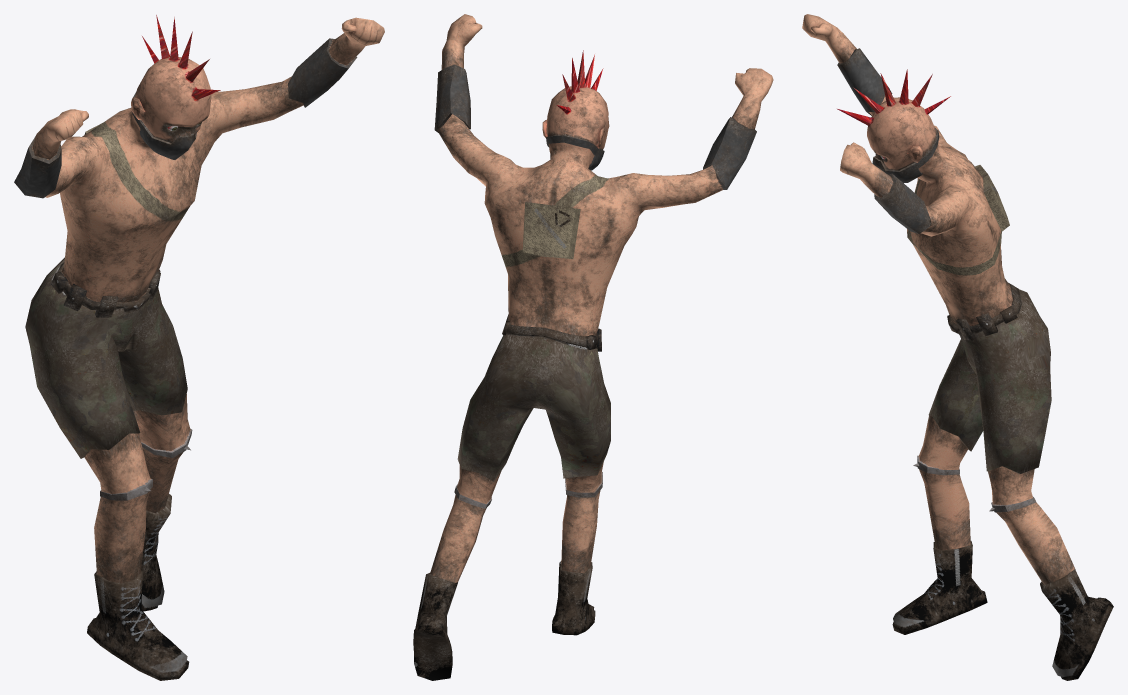
File: Anim_ganar_1_npc2.0030.obj
The picture shows the model from 3 angles, left to right: view 1: azimuth 30°, elevation 25°; view 2: azimuth 150°, elevation 25°; view 3: azimuth 270°, elevation 25°; orthographic projection. The views are drawn at different scales.
Parts seen in each view (by area): view 1: polySurface1; view 2: polySurface1; view 3: polySurface1.
Boxes of the visible parts, x1,y1,x2,y2 form: polySurface1: (14, 15, 384, 680); polySurface1: (413, 14, 773, 680); polySurface1: (802, 14, 1113, 680).
Size of the model in its own units: 5.53 by 10.16 by 4.92.
